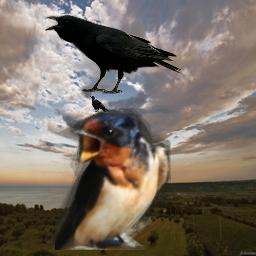Crow: (45, 15, 182, 95), (90, 95, 109, 112)
Swallow: (55, 108, 171, 250)
